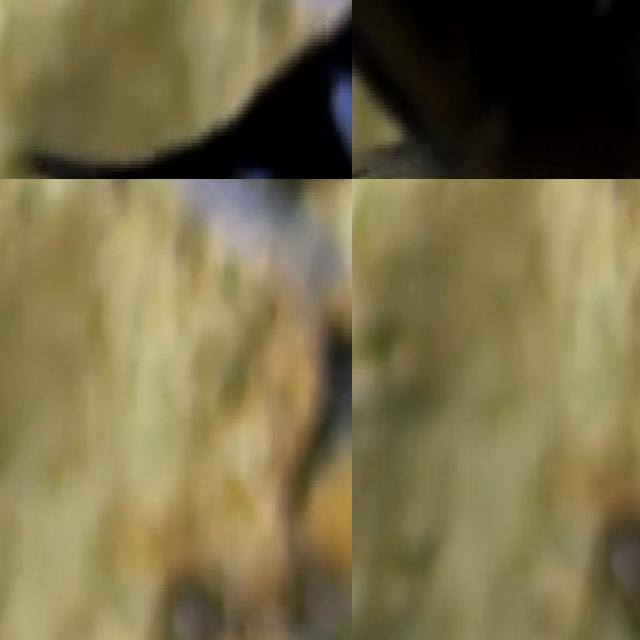fish: (0, 0, 352, 179)
